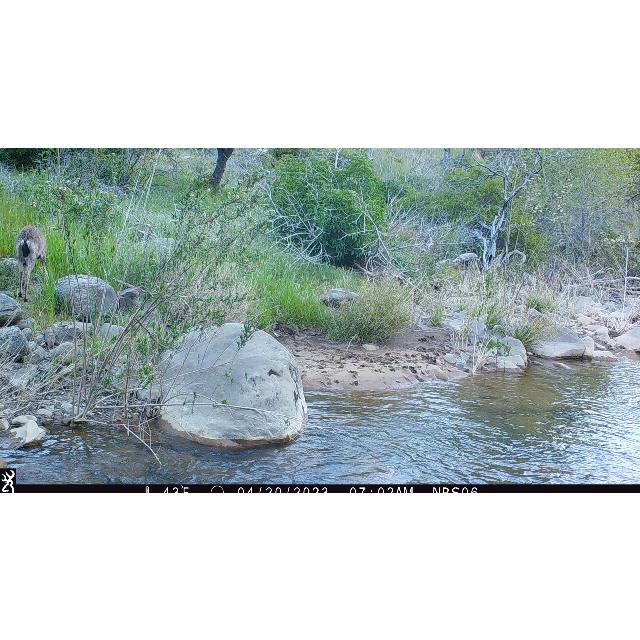animals: (15, 222, 51, 302)
